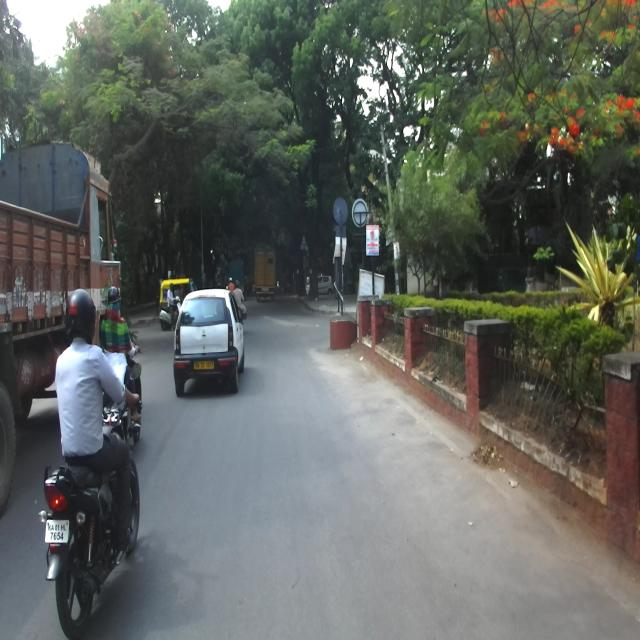car ahead at: (174, 293, 243, 401)
motorcycle ahead at: (42, 452, 146, 632)
